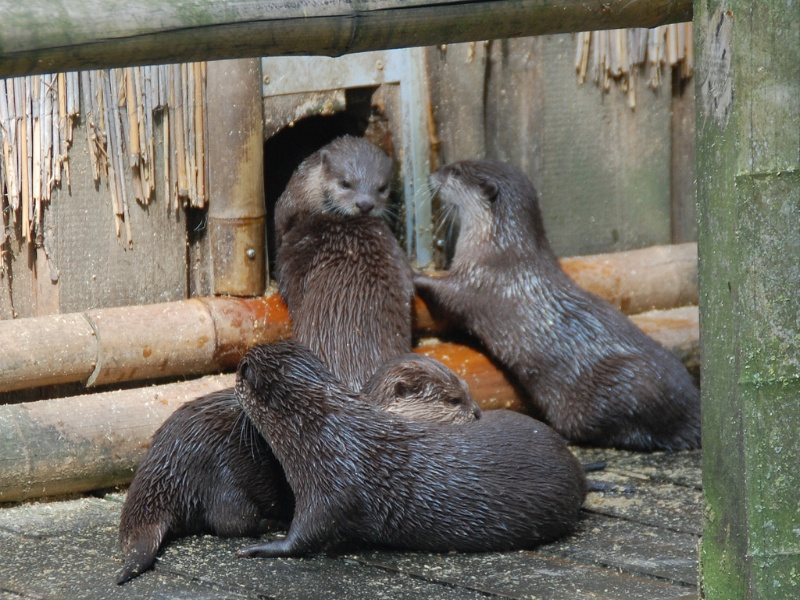minkish: (95, 351, 479, 590), (424, 151, 712, 457), (236, 343, 590, 546), (269, 130, 420, 393)
